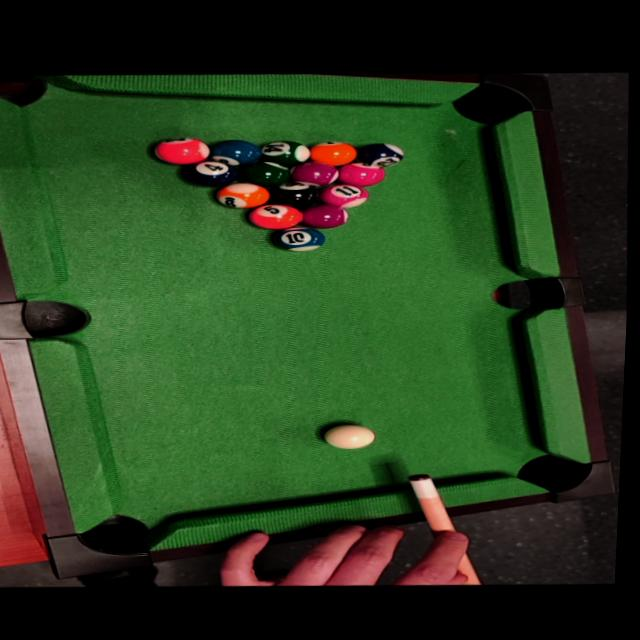cue ball: (314, 421, 379, 451)
other: (176, 155, 244, 189), (209, 177, 273, 211), (234, 157, 300, 189), (146, 134, 210, 167), (243, 200, 303, 232), (351, 138, 405, 172), (271, 221, 328, 253), (268, 178, 324, 209), (207, 136, 263, 167), (335, 157, 389, 189), (291, 158, 345, 190), (257, 137, 310, 168), (306, 137, 360, 167), (298, 201, 352, 231), (319, 180, 373, 209)
